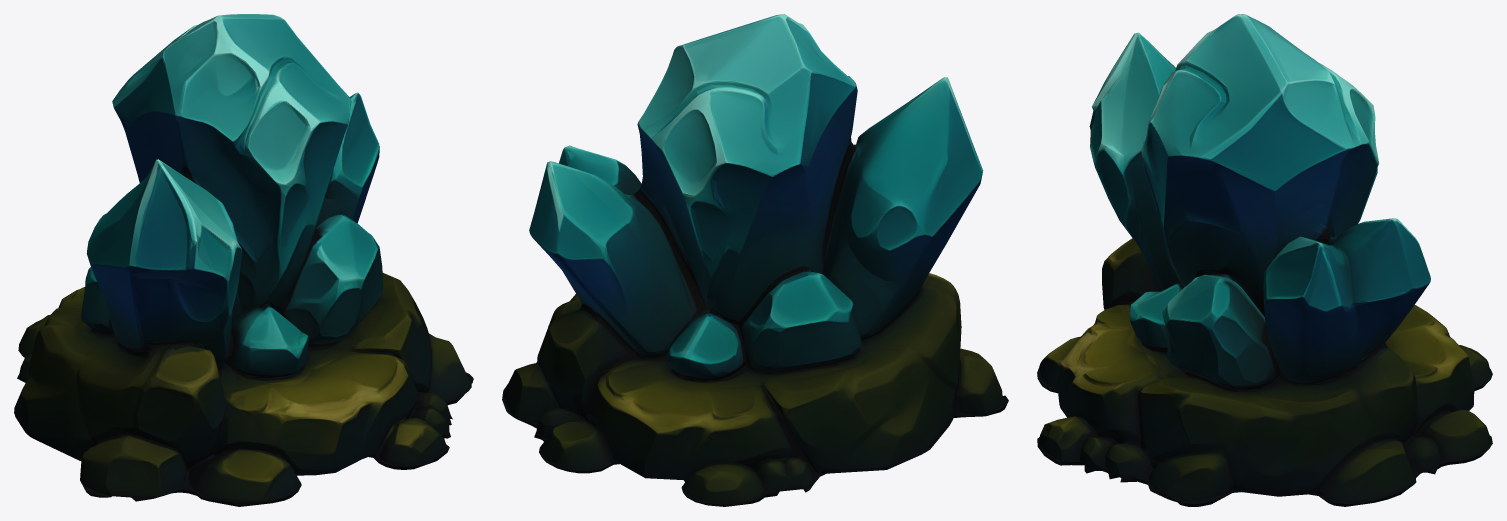
Rendered from SM_Ore04.fbx.
The picture shows the model from 3 angles, left to right: view 1: azimuth 30°, elevation 25°; view 2: azimuth 150°, elevation 25°; view 3: azimuth 270°, elevation 25°; orthographic projection. The views are drawn at different scales.
Visible parts, largest first — view 1: Ore04; view 2: Ore04; view 3: Ore04.
Boxes of the visible parts, x1,y1,x2,y2 form: Ore04: (14, 14, 473, 506); Ore04: (502, 14, 1008, 506); Ore04: (1037, 14, 1492, 506).
Bounding box in the file's own units: 111 × 103 × 110.
Materials: 1 (1 with a texture image).
